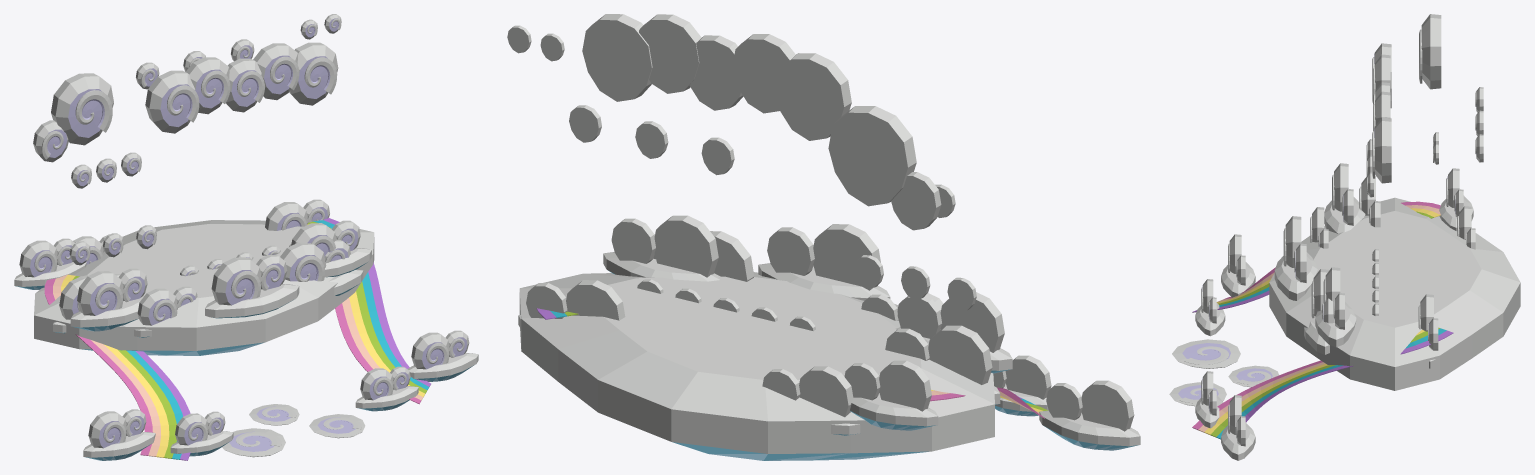
Rendered from decoration.glb.
The picture shows the model from 3 angles, left to right: view 1: azimuth 30°, elevation 25°; view 2: azimuth 150°, elevation 25°; view 3: azimuth 270°, elevation 25°; orthographic projection. The views are drawn at different scales.
Parts seen in each view (by area): view 1: 12_R3B_Cloudsdale_ScallopedTerracesAndCloudEaves, 12_R3B_Cloudsdale_SerpentineRainbowRamps; view 2: 12_R3B_Cloudsdale_ScallopedTerracesAndCloudEaves, 12_R3B_Cloudsdale_SerpentineRainbowRamps; view 3: 12_R3B_Cloudsdale_ScallopedTerracesAndCloudEaves, 12_R3B_Cloudsdale_SerpentineRainbowRamps.
Boxes of the visible parts, x1,y1,x2,y2 form: 12_R3B_Cloudsdale_ScallopedTerracesAndCloudEaves: (14, 14, 478, 460); 12_R3B_Cloudsdale_SerpentineRainbowRamps: (44, 217, 430, 460); 12_R3B_Cloudsdale_ScallopedTerracesAndCloudEaves: (507, 14, 1140, 460); 12_R3B_Cloudsdale_SerpentineRainbowRamps: (536, 308, 1048, 418); 12_R3B_Cloudsdale_ScallopedTerracesAndCloudEaves: (1195, 14, 1520, 460); 12_R3B_Cloudsdale_SerpentineRainbowRamps: (1169, 201, 1453, 439).
Size of the model in its own units: 1.49 by 1.12 by 1.12.
